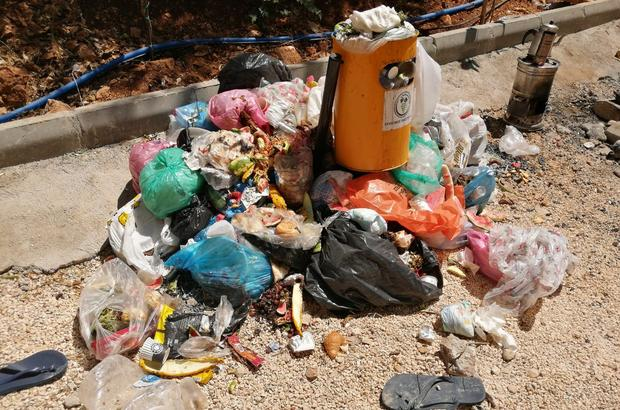Container: (319, 12, 419, 193), (330, 24, 417, 173)
Garbage: (81, 192, 221, 404), (153, 263, 345, 376), (311, 206, 429, 322), (329, 177, 476, 259), (76, 259, 166, 367), (193, 224, 280, 311), (230, 126, 307, 219), (420, 284, 526, 350), (446, 113, 516, 207), (226, 183, 313, 247), (253, 276, 319, 345), (411, 128, 458, 209), (221, 87, 292, 138), (139, 139, 180, 209), (239, 136, 273, 197), (174, 103, 222, 144), (495, 132, 533, 178), (356, 3, 400, 40), (425, 50, 443, 136), (125, 141, 149, 182)
